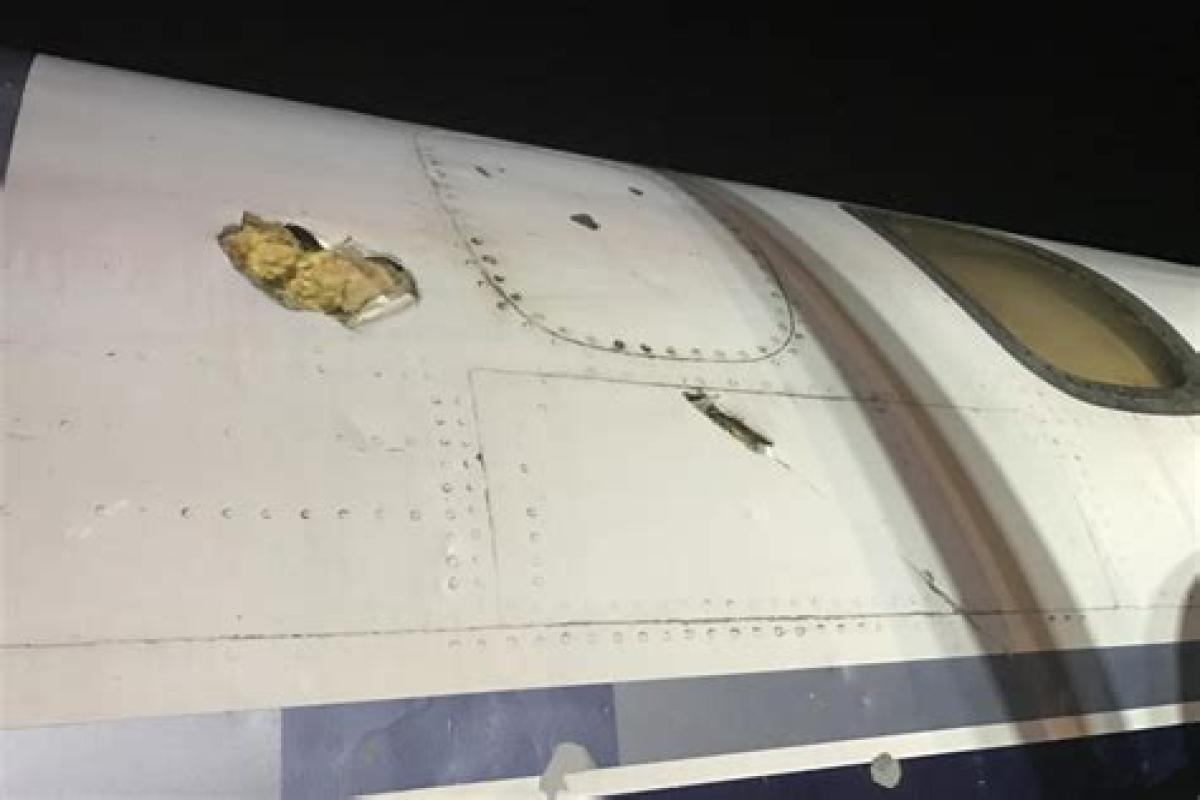Fuselage_damage: (207, 200, 433, 334)
